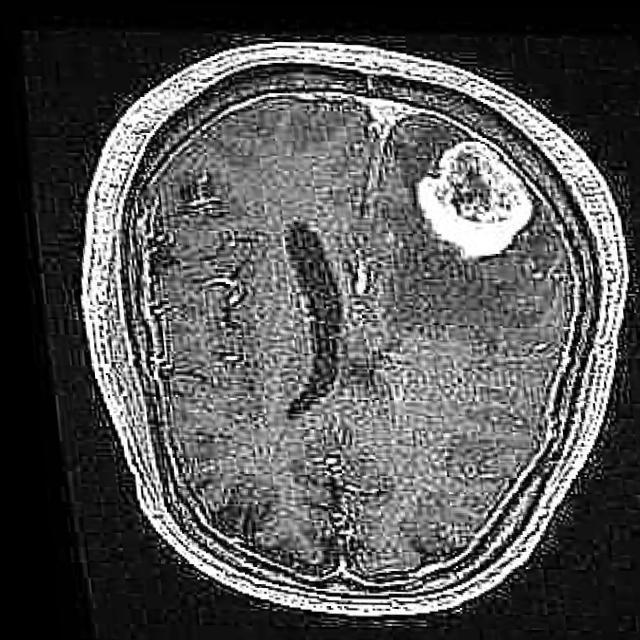Tumor: (409, 138, 528, 249)
